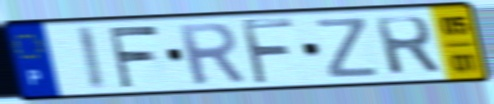F: (238, 17, 297, 87), (104, 23, 161, 91)
I: (73, 24, 109, 93)
R: (174, 21, 249, 88), (371, 14, 444, 78)
Z: (313, 15, 382, 81)
